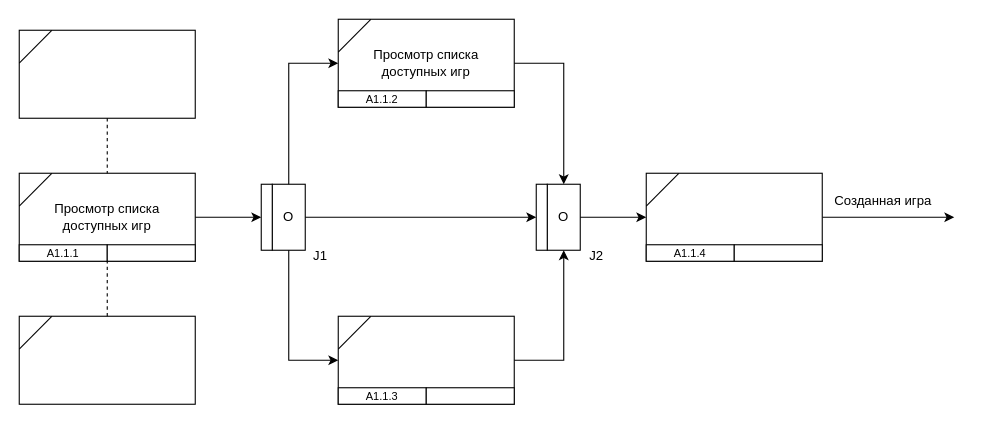
This 982x424 diagram has some shape labels left out. Here are the shapes that lost their labels. From the top down, the box of each, then its label:
(18, 29, 195, 118): Пользователь
(645, 172, 822, 261): Подтверждение создания игры
(18, 315, 195, 404): Доступные игры
(337, 315, 514, 404): Настройка доп. опций игры
